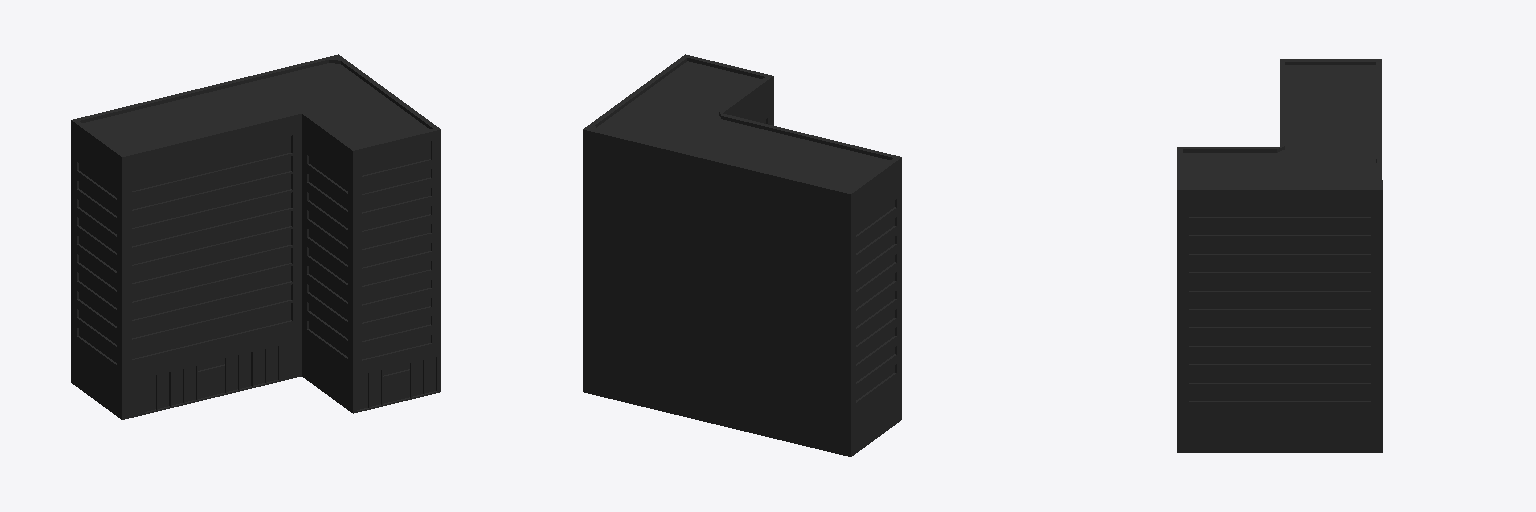
File: building_1.obj
3 renders of one model, left to right at view 1: azimuth 30°, elevation 25°; view 2: azimuth 150°, elevation 25°; view 3: azimuth 270°, elevation 25°, orthographic.
Parts seen in each view (by area): view 1: Building10; view 2: Building10; view 3: Building10.
Boxes of the visible parts, <box> form: Building10: <box>71,54,440,419</box>; Building10: <box>583,54,901,456</box>; Building10: <box>1177,59,1382,452</box>.
Bounding box in the file's own units: 9347 × 8763 × 6198.